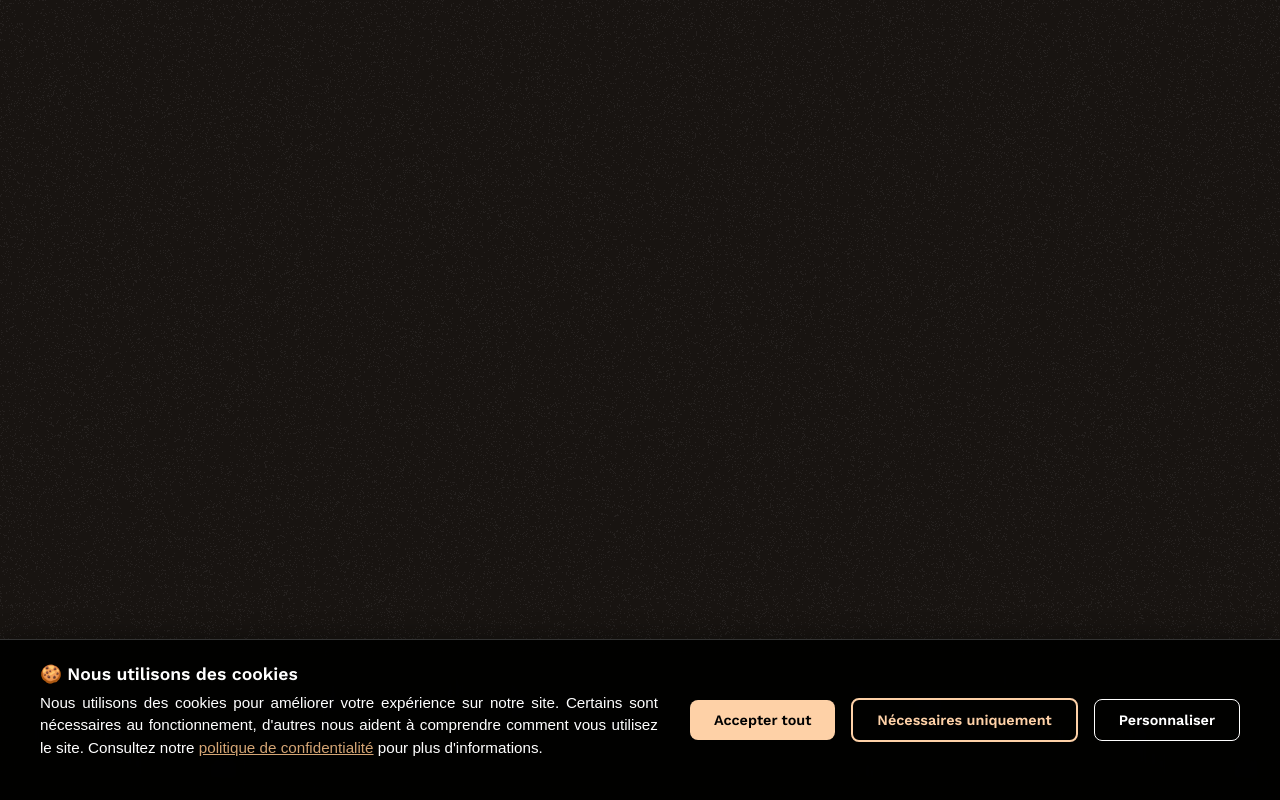
CookieBanner Component › opens customization modal when customize button is clicked
Click the button "Personnaliser".
click(1167, 720)  # box [1094, 699, 1240, 741]
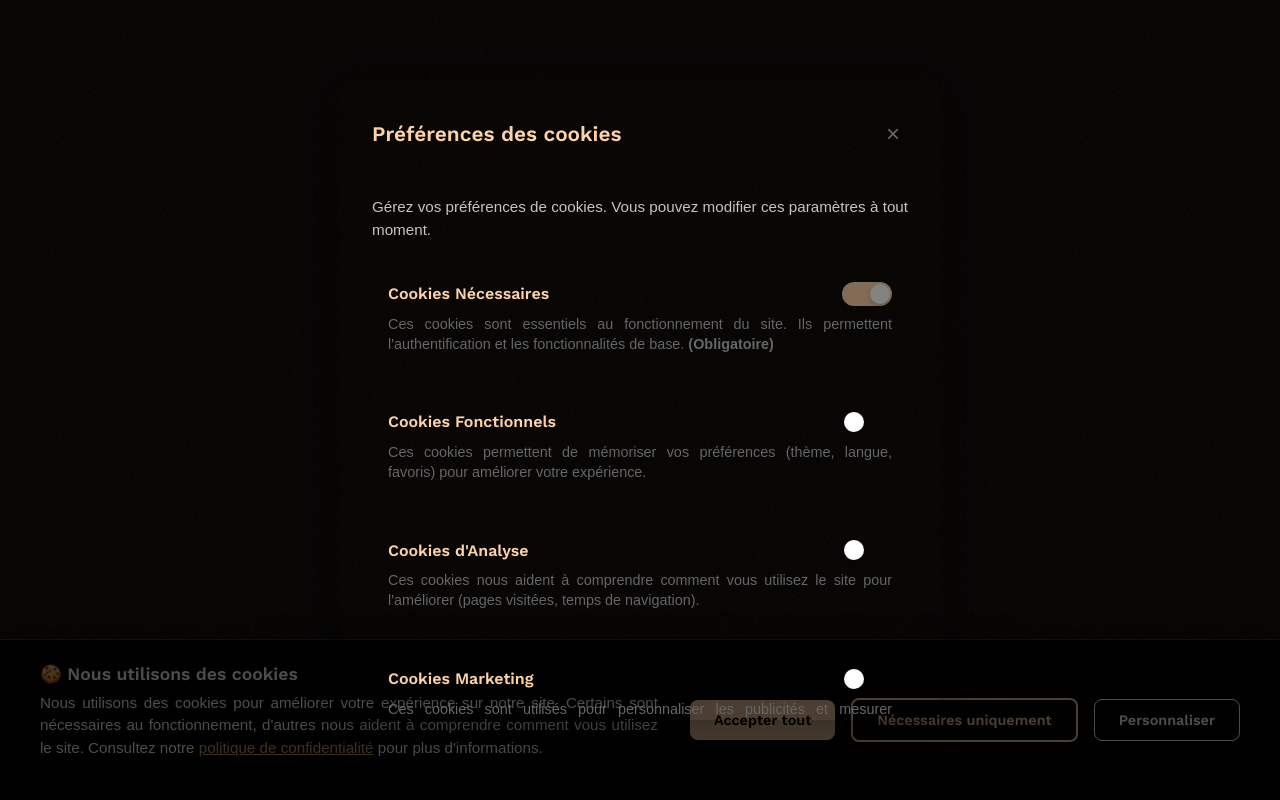
expect the heading "Préférences des cookies" is shown: met, box [372, 122, 622, 146]
